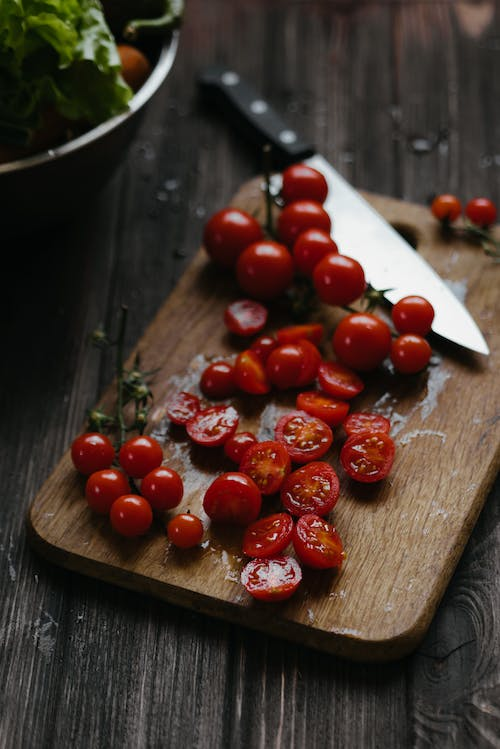knife: (194, 60, 493, 359)
